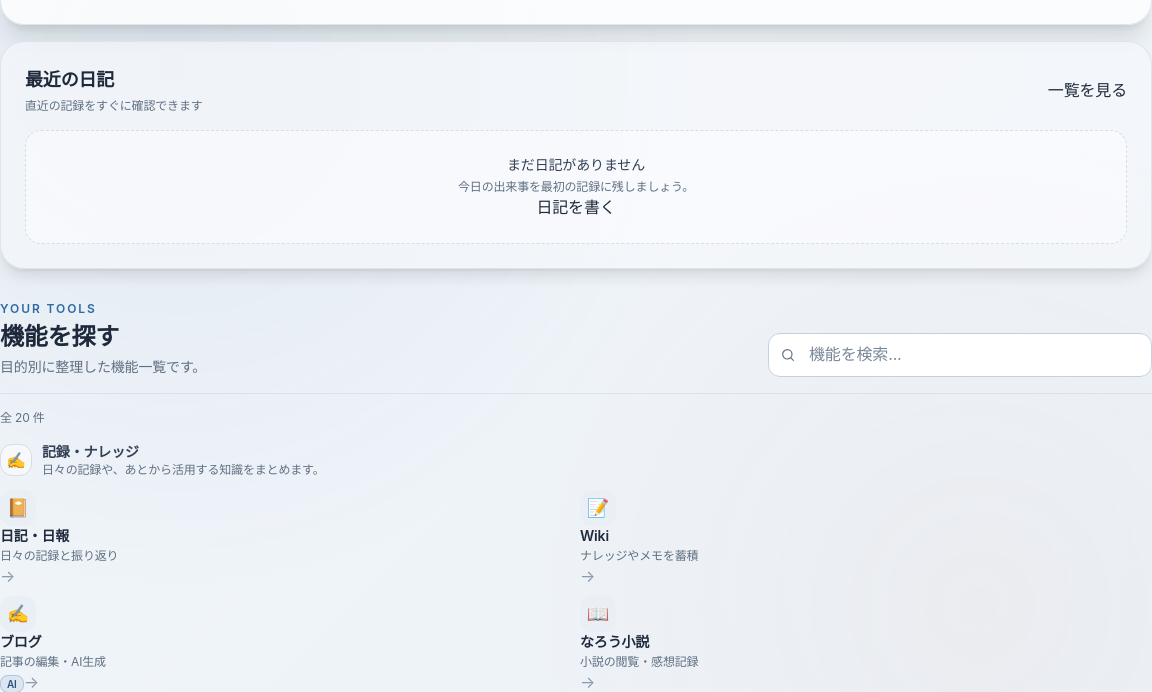
Test: MainPage › filters features by name and related keywords
(page scrolled)
Step 1. Type "投資" into the search field named "機能名や内容で絞り込む" → x=960, y=355, box left=768, top=333, right=1151, bottom=377
(page scrolled)
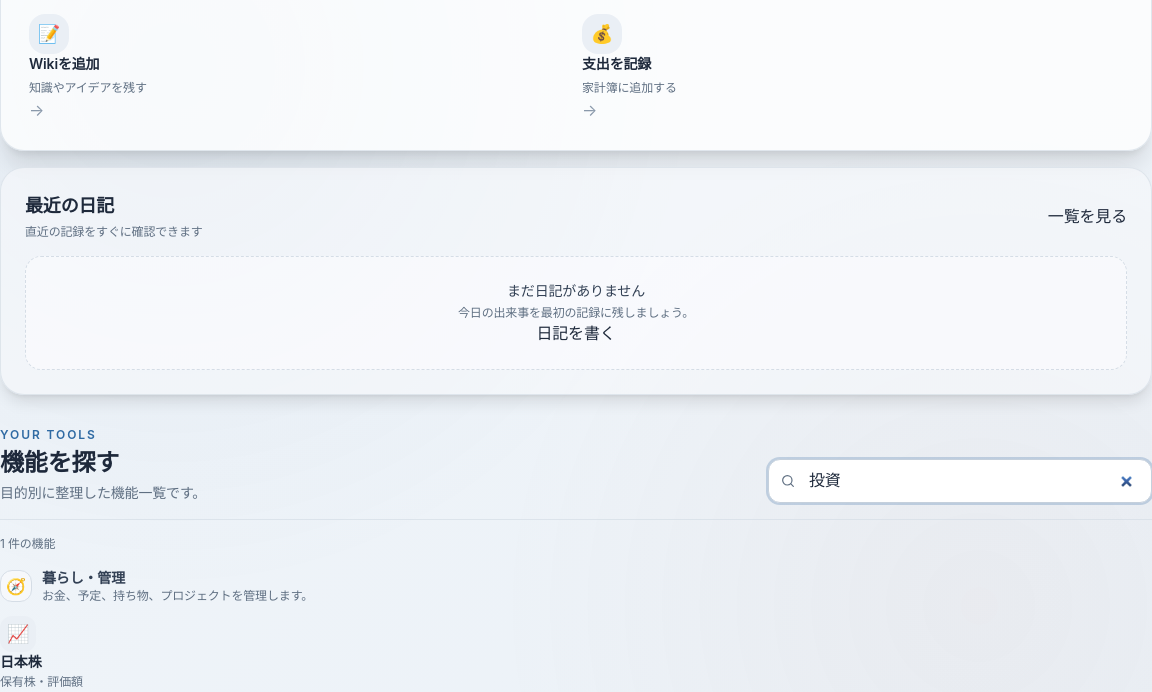
expect the text "1 件の機能" is shown: met, box left=0, top=536, right=55, bottom=551
